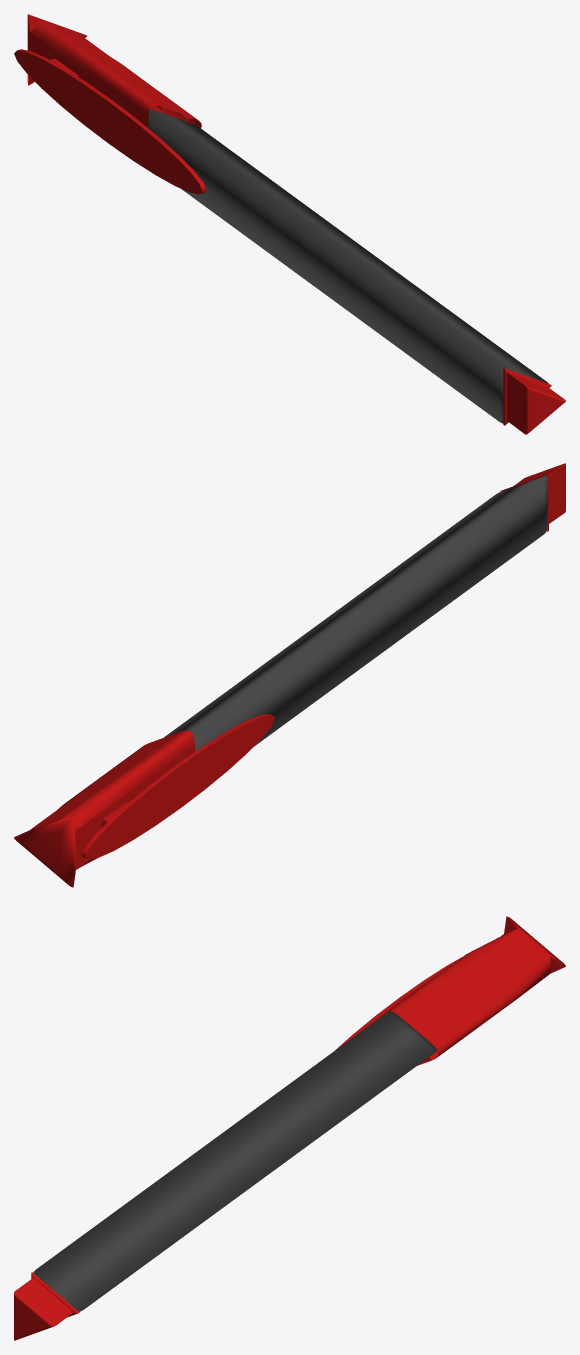
The model's file is pen_two.FBX.
3 views of the same model, one above another, from view 1: azimuth 30°, elevation 25°; view 2: azimuth 150°, elevation 25°; view 3: azimuth 330°, elevation 25° (orthographic).
Visible parts, largest first — view 1: ChamferCyl001, ChamferCyl003, ChamferCyl002; view 2: ChamferCyl001, ChamferCyl003, ChamferCyl002; view 3: ChamferCyl001, ChamferCyl003, ChamferCyl002.
Boxes of the visible parts, x1,y1,x2,y2 form: ChamferCyl001: [148, 109, 548, 423]; ChamferCyl003: [14, 14, 206, 194]; ChamferCyl002: [503, 367, 565, 434]; ChamferCyl001: [163, 475, 547, 751]; ChamferCyl003: [14, 714, 274, 887]; ChamferCyl002: [500, 463, 565, 531]; ChamferCyl001: [33, 1011, 436, 1313]; ChamferCyl003: [335, 916, 565, 1065]; ChamferCyl002: [14, 1272, 79, 1340].
Bounding box in the file's own units: 17.22 × 16.23 × 205.
